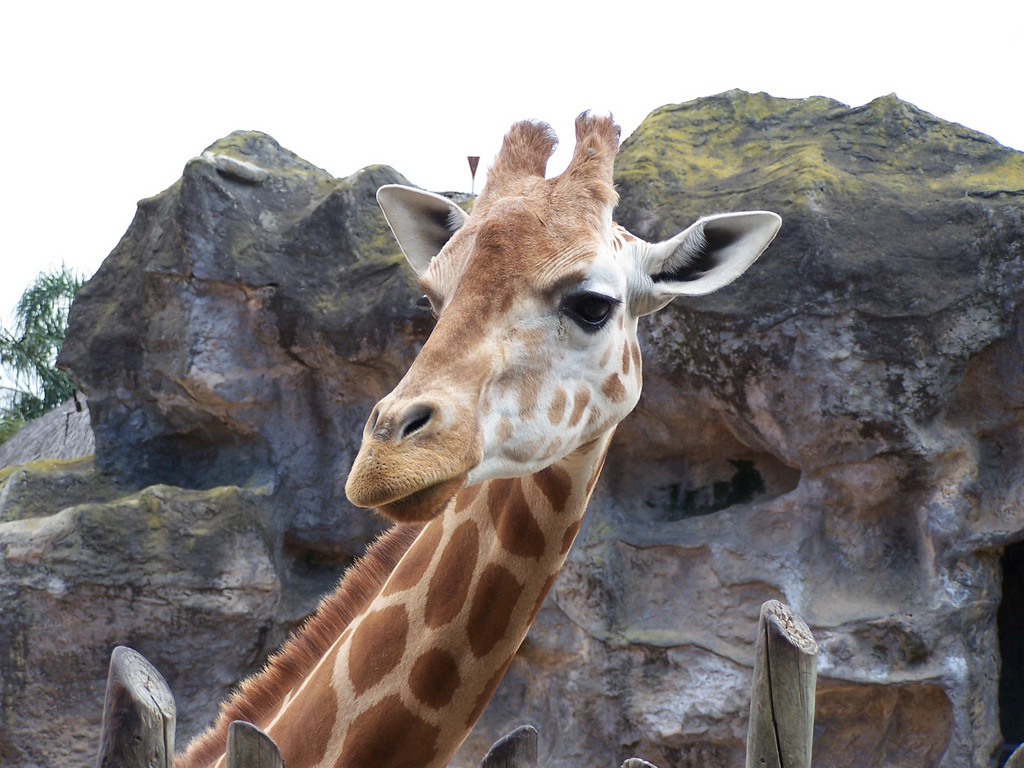giraffe: (149, 111, 817, 724)
